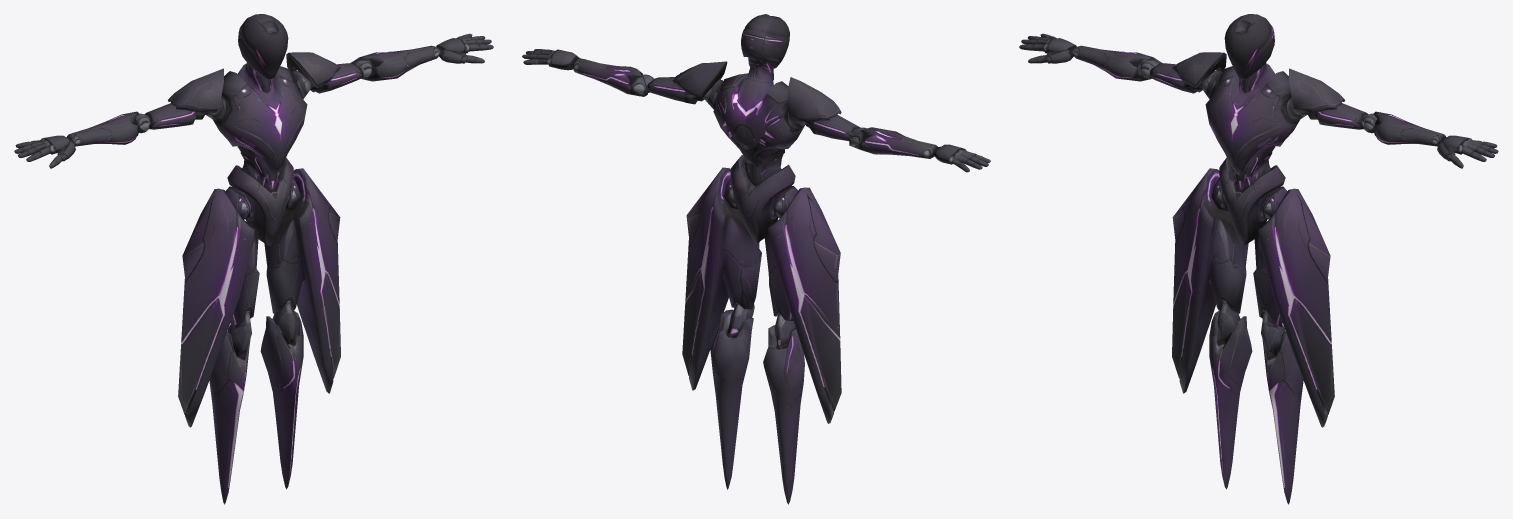
Rendered from Archange_LowPoly_uv.glb.
3 renders of one model, left to right at view 1: azimuth 30°, elevation 25°; view 2: azimuth 150°, elevation 25°; view 3: azimuth 330°, elevation 25°, orthographic. The views are drawn at different scales.
Parts seen in each view (by area): view 1: tripo_3c51d409_a642_4add_9132_4d6e3012209b; view 2: tripo_3c51d409_a642_4add_9132_4d6e3012209b; view 3: tripo_3c51d409_a642_4add_9132_4d6e3012209b.
Boxes of the visible parts, bbox=[...] form: tripo_3c51d409_a642_4add_9132_4d6e3012209b: bbox=[14, 14, 493, 504]; tripo_3c51d409_a642_4add_9132_4d6e3012209b: bbox=[522, 14, 990, 504]; tripo_3c51d409_a642_4add_9132_4d6e3012209b: bbox=[1019, 14, 1498, 504].
Size of the model in its own units: 0.9995 by 0.981 by 0.146.
1 material, 1 textured.
